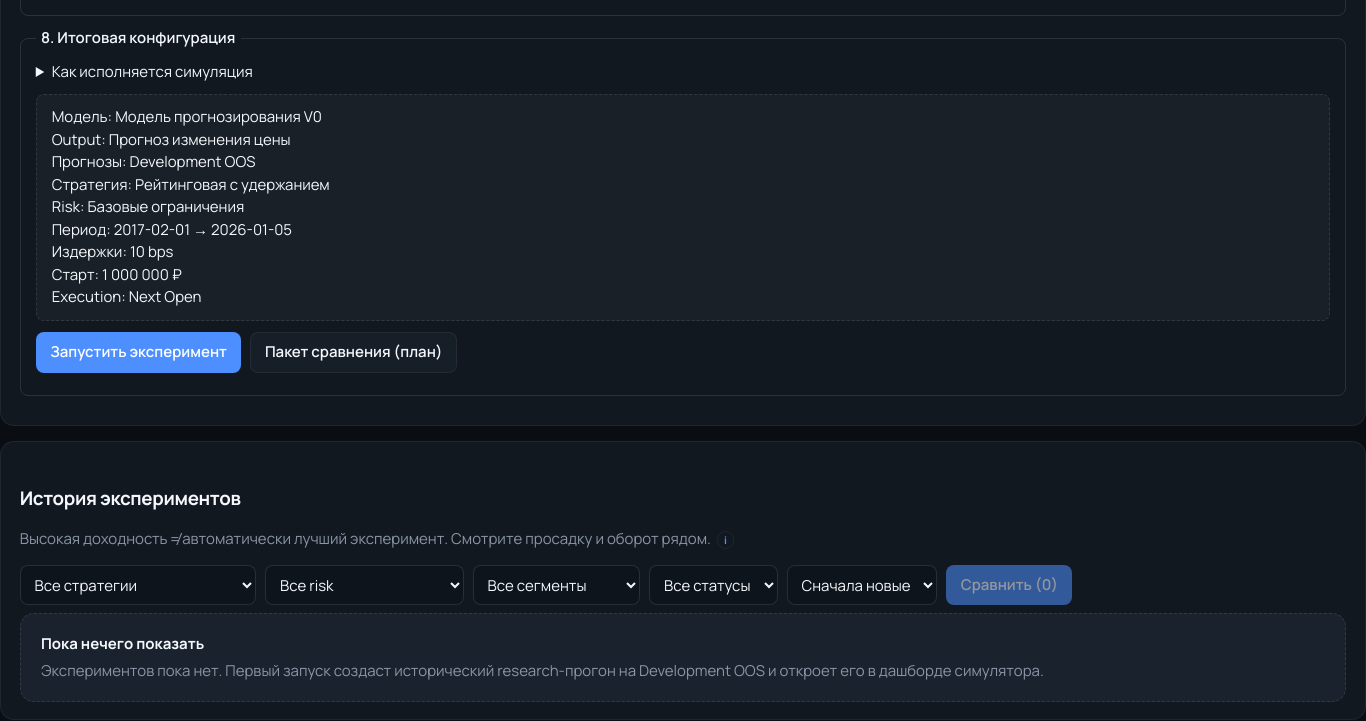
ResearchLabPage › launches and shows reuse banner
(page scrolled)
Click the button "Запустить эксперимент": point(139, 352) [36,332,242,373]
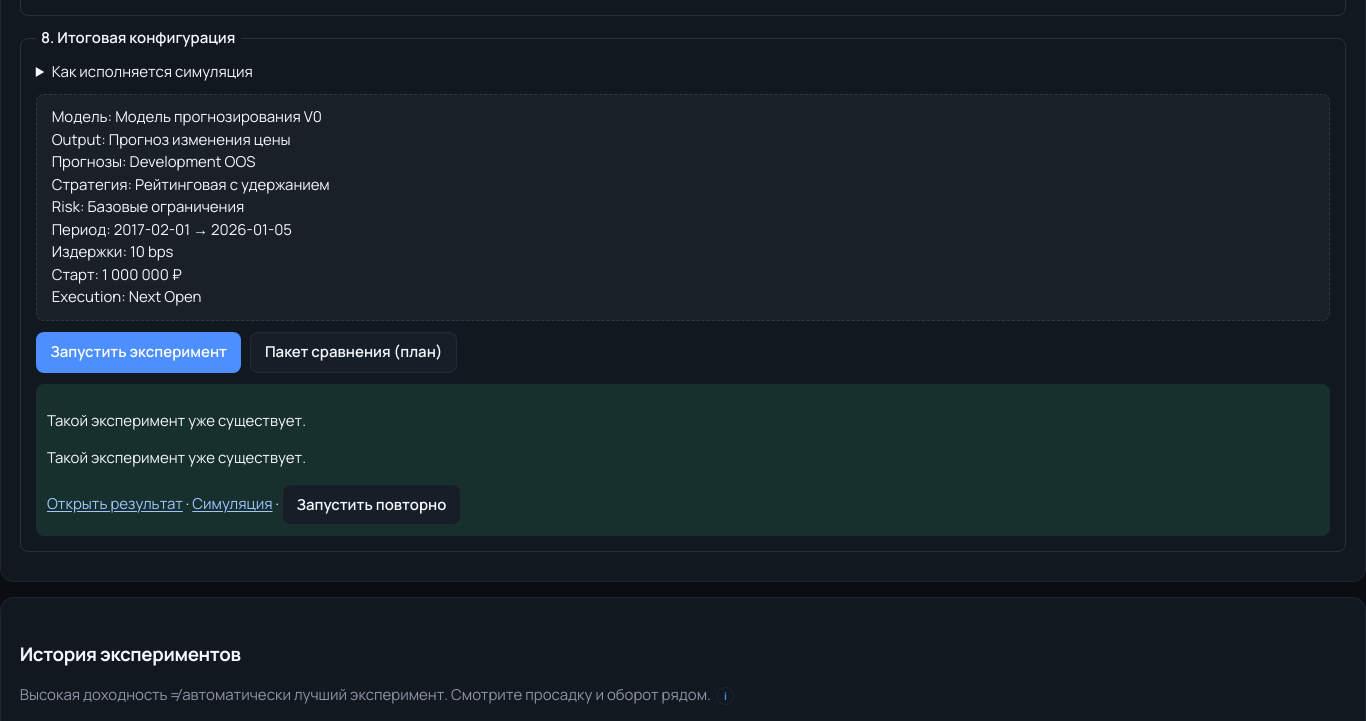
expect the text with test id "reuse-banner" shows "уже существует": met, box [47,447,306,468]
